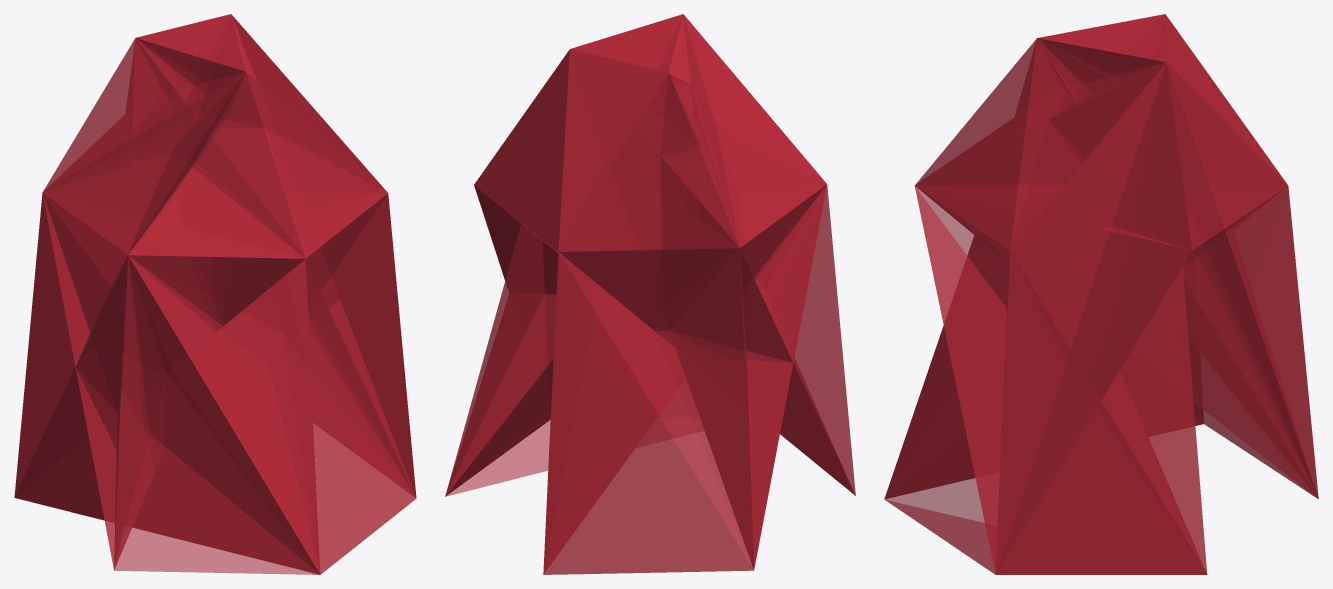
Rendered from S.S._Dolphin_Bowsprit_9.obj.
3 renders of one model, left to right at view 1: azimuth 30°, elevation 25°; view 2: azimuth 150°, elevation 25°; view 3: azimuth 270°, elevation 25°, orthographic. The views are drawn at different scales.
Visible parts, largest first — view 1: S.S._Dolphin_Bowsprit_9; view 2: S.S._Dolphin_Bowsprit_9; view 3: S.S._Dolphin_Bowsprit_9.
Part boxes in pixels (x1,y1,x2,y2): S.S._Dolphin_Bowsprit_9: (14,14,416,574); S.S._Dolphin_Bowsprit_9: (445,14,855,574); S.S._Dolphin_Bowsprit_9: (884,14,1318,574).
Size of the model in its own units: 0.3911 by 0.5576 by 0.476.
